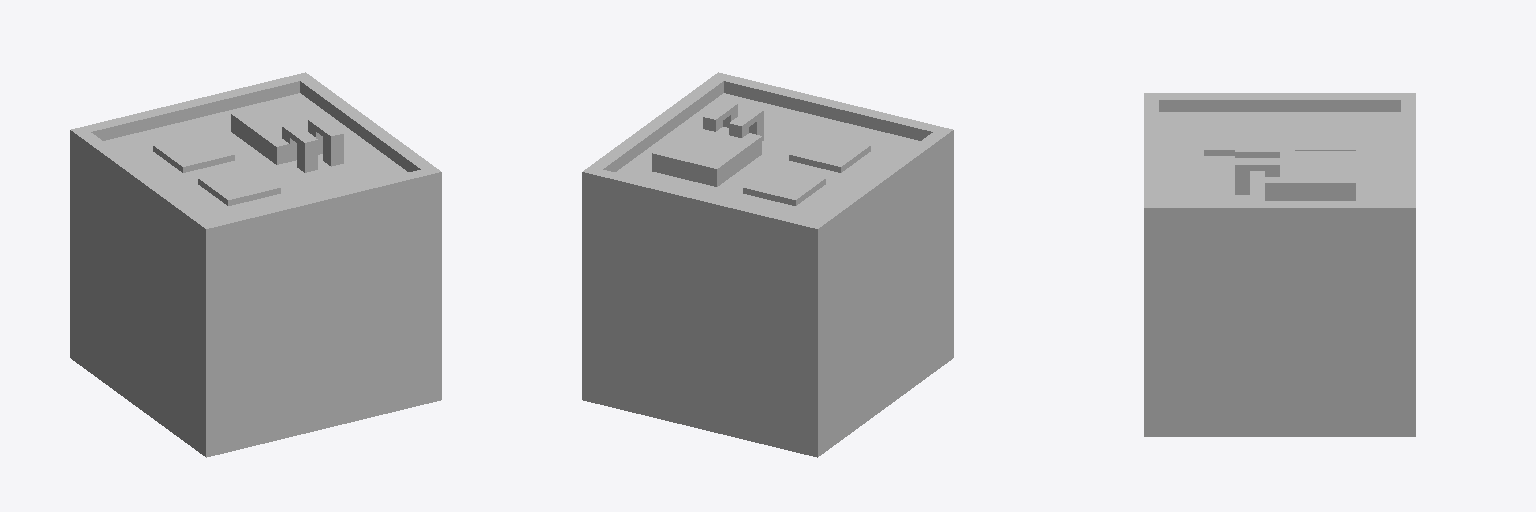
Rendered from building03.obj.
3 views of the same model, side by side, from view 1: azimuth 30°, elevation 25°; view 2: azimuth 150°, elevation 25°; view 3: azimuth 270°, elevation 25° (orthographic).
Parts seen in each view (by area): view 1: building03; view 2: building03; view 3: building03.
Part boxes in pixels (bbox=[...]): building03: bbox=[70, 72, 441, 457]; building03: bbox=[582, 72, 953, 457]; building03: bbox=[1144, 93, 1415, 436].
Size of the model in its own units: 1 by 1 by 1.